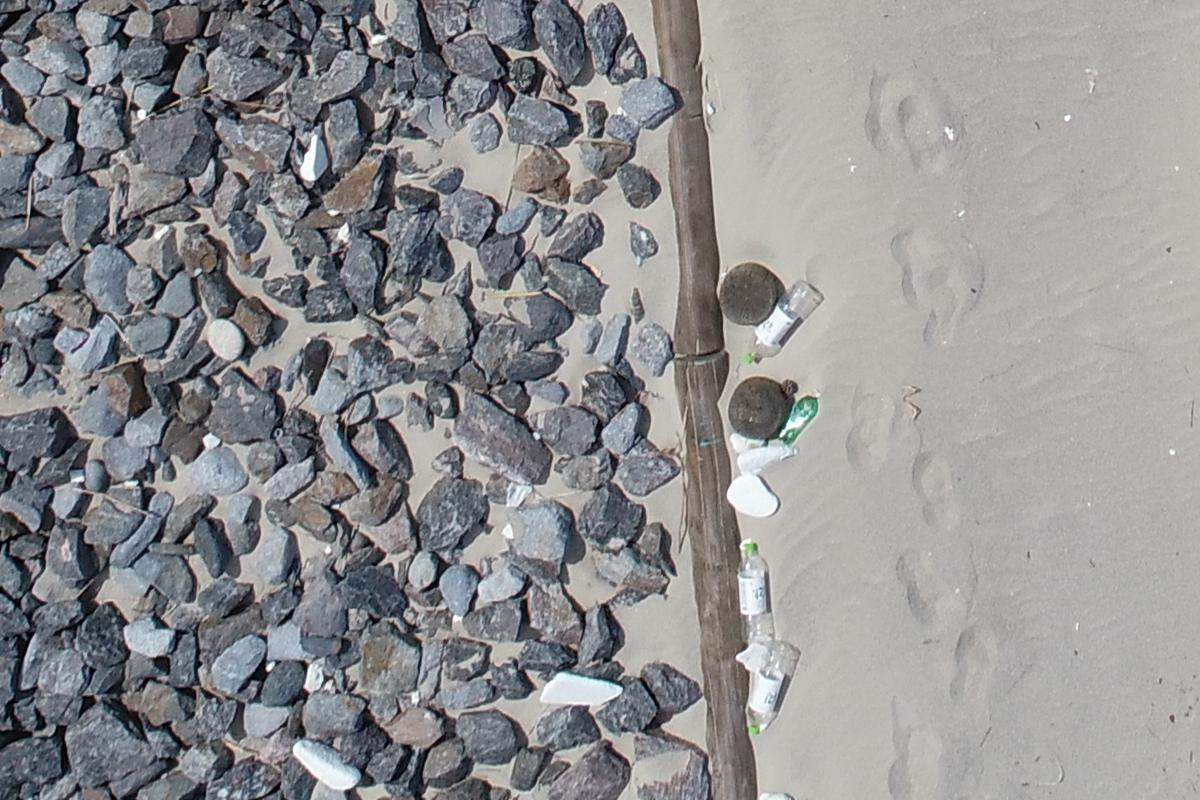(11)PET_Bottle: (778, 388, 822, 444)
(11)Styrofoam_Piece: (295, 130, 328, 190)
(21)Styrofoam_Piece: (536, 667, 622, 711), (297, 738, 359, 790)
